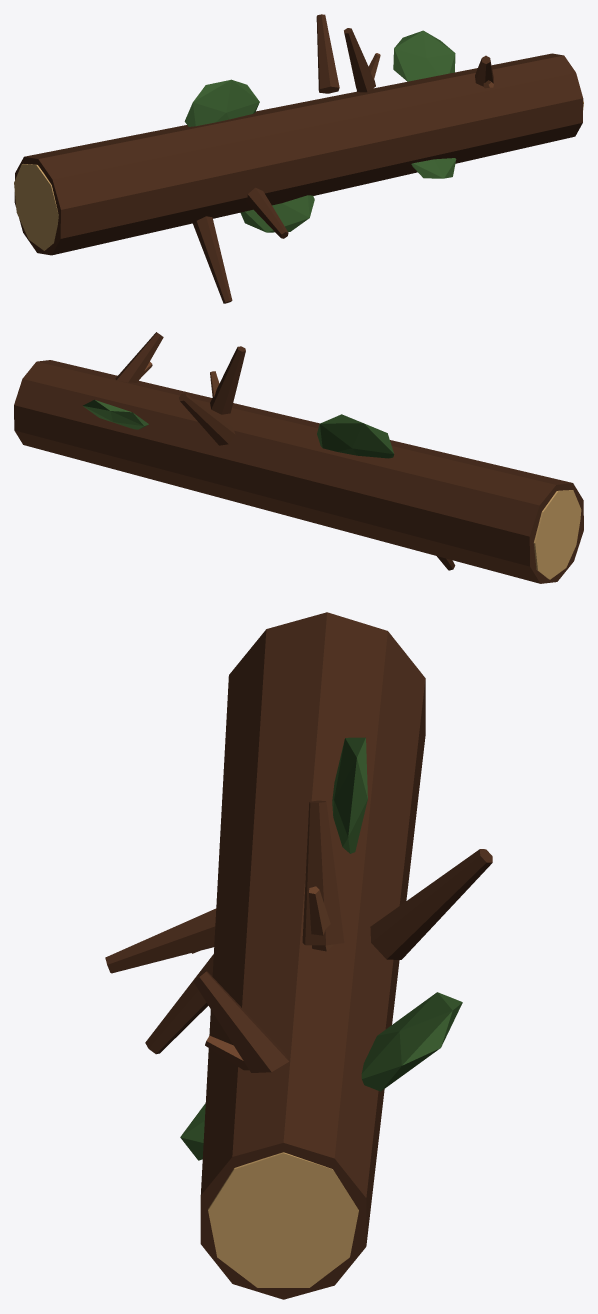
The model's file is fallen_log_c.glb.
3 views of the same model, one above another, from view 1: azimuth 30°, elevation 25°; view 2: azimuth 150°, elevation 25°; view 3: azimuth 270°, elevation 25° (orthographic). The views are drawn at different scales.
Parts seen in each view (by area): view 1: Log.002, Cut_A.002, Moss_1.002, Moss_2.002, Branch_5.012, Moss_4, Branch_1.014, Branch_2.014, Branch_4.012, Moss_3.001, Branch_3.014; view 2: Log.002, Cut_A.002, Moss_2.002, Branch_2.014, Branch_1.014, Moss_1.002, Branch_3.014; view 3: Log.002, Cut_B.002, Moss_1.002, Branch_1.014, Branch_2.014, Branch_3.014, Moss_2.002, Branch_4.012, Branch_5.012, Twig_2.001.
Part boxes in pixels (x1=…): Log.002: x1=14, y1=53, x2=583, y2=255; Cut_A.002: x1=14, y1=164, x2=58, y2=250; Moss_1.002: x1=393, y1=30, x2=455, y2=81; Moss_2.002: x1=184, y1=79, x2=259, y2=126; Branch_5.012: x1=193, y1=216, x2=232, y2=303; Moss_4: x1=240, y1=195, x2=314, y2=232; Branch_1.014: x1=316, y1=14, x2=339, y2=93; Branch_2.014: x1=344, y1=28, x2=375, y2=92; Branch_4.012: x1=245, y1=187, x2=288, y2=238; Moss_3.001: x1=411, y1=158, x2=456, y2=178; Branch_3.014: x1=475, y1=55, x2=493, y2=86; Log.002: x1=14, y1=360, x2=583, y2=583; Cut_A.002: x1=533, y1=490, x2=581, y2=579; Moss_2.002: x1=317, y1=414, x2=394, y2=458; Branch_2.014: x1=210, y1=346, x2=245, y2=414; Branch_1.014: x1=179, y1=393, x2=235, y2=445; Moss_1.002: x1=82, y1=399, x2=148, y2=429; Branch_3.014: x1=115, y1=332, x2=163, y2=382; Log.002: x1=200, y1=612, x2=425, y2=1299; Cut_B.002: x1=208, y1=1152, x2=358, y2=1287; Moss_1.002: x1=361, y1=992, x2=462, y2=1091; Branch_1.014: x1=370, y1=849, x2=492, y2=959; Branch_2.014: x1=302, y1=800, x2=344, y2=945; Branch_3.014: x1=193, y1=971, x2=288, y2=1072; Moss_2.002: x1=332, y1=737, x2=367, y2=853; Branch_4.012: x1=105, y1=908, x2=216, y2=973; Branch_5.012: x1=145, y1=954, x2=213, y2=1054; Twig_2.001: x1=309, y1=886, x2=333, y2=951.
Bounding box in the file's own units: 4.45 × 1.69 × 1.44.
